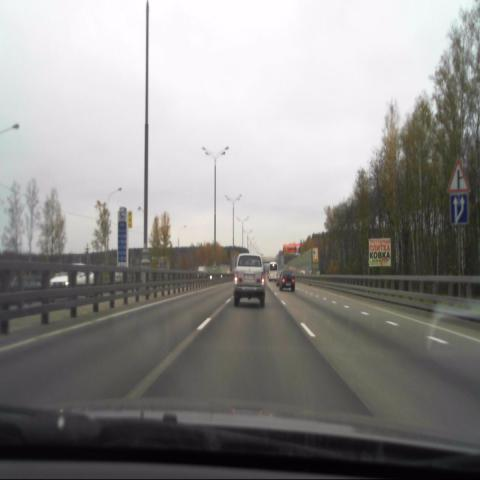2_3_2: (448, 160, 469, 192)
